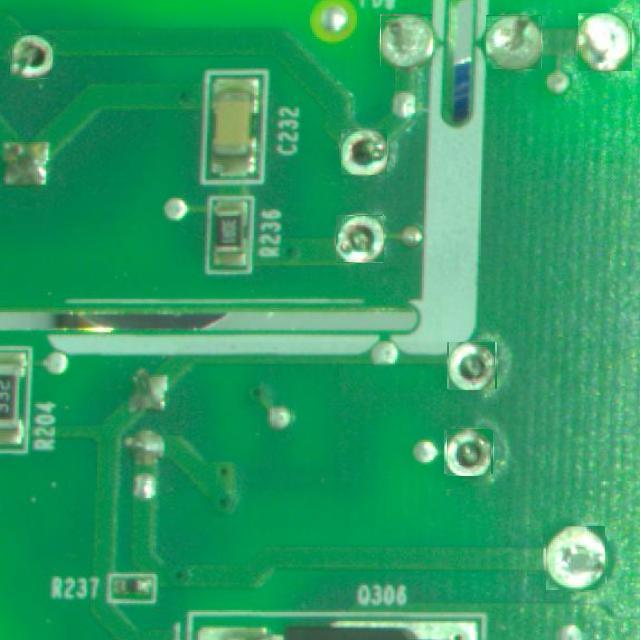oppostie_direction: (545, 527, 605, 590), (578, 13, 631, 71), (487, 15, 540, 69), (380, 15, 432, 66), (336, 216, 384, 261), (450, 342, 495, 390), (447, 428, 491, 476), (342, 129, 387, 175), (9, 36, 53, 78)
